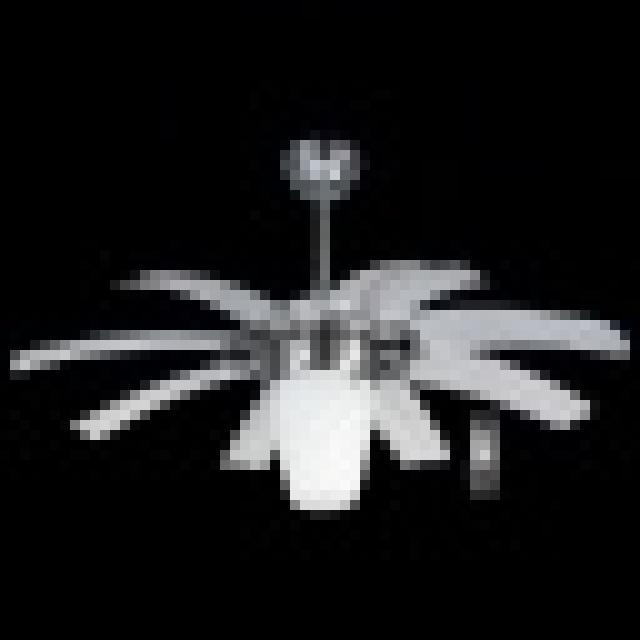Bulb: (11, 227, 632, 454)
